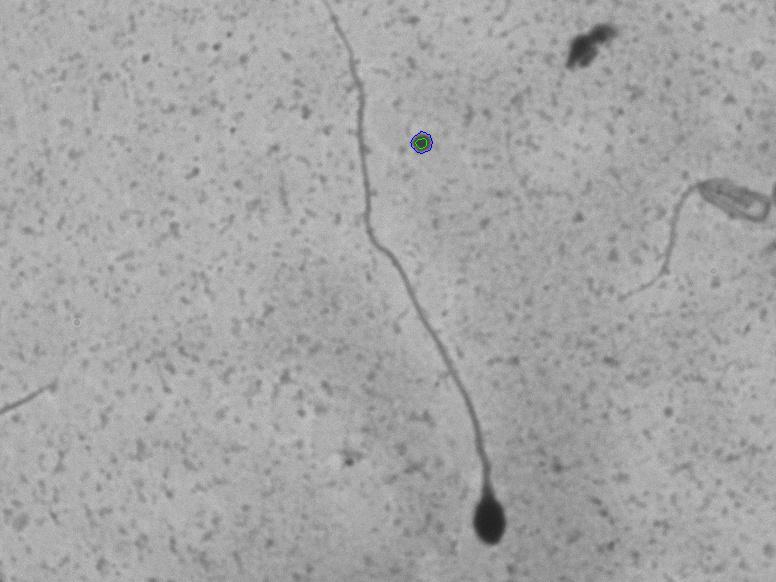Abnormal: (343, 23, 540, 554)
